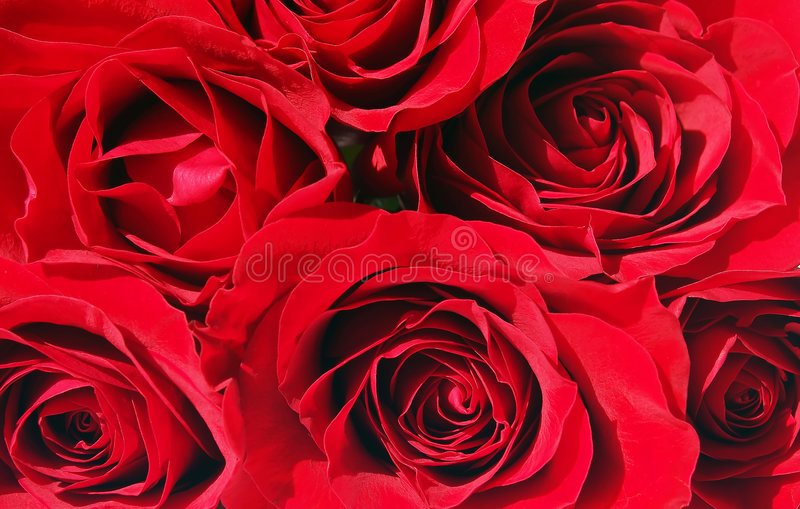RedRose: (212, 202, 718, 509), (403, 3, 796, 270), (21, 28, 358, 312), (0, 216, 230, 509), (172, 1, 547, 139), (675, 239, 800, 509)
